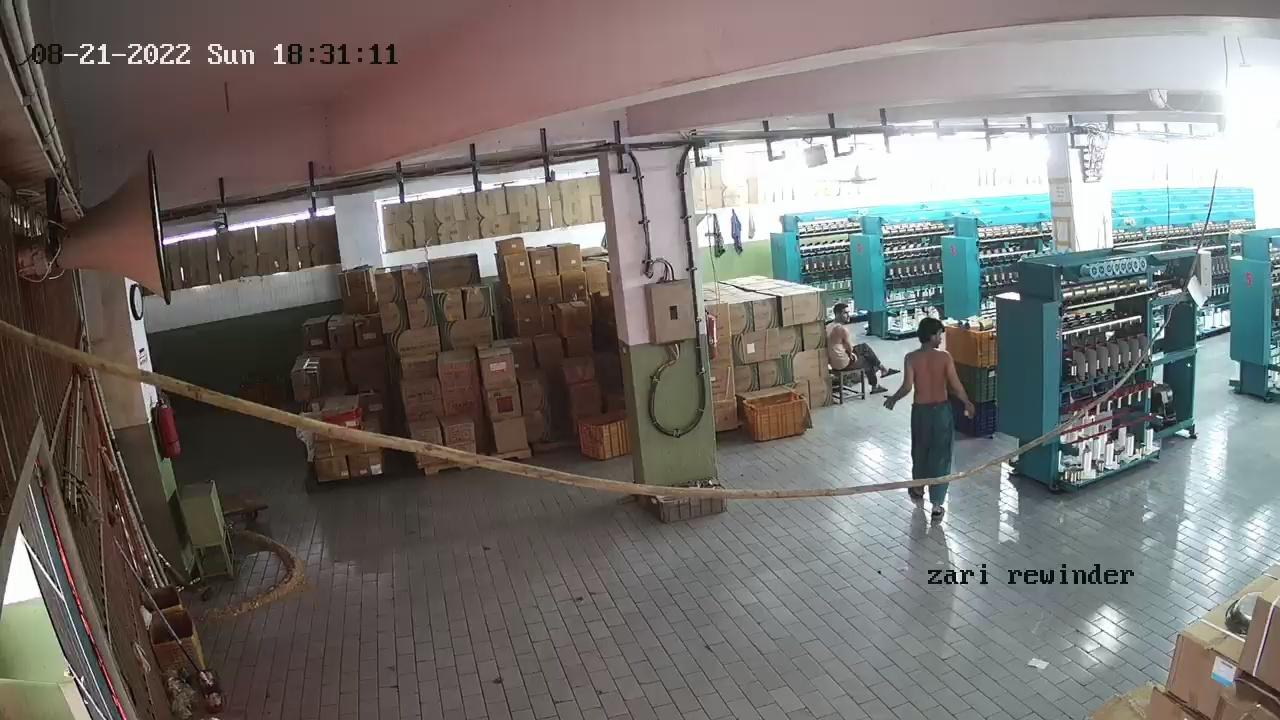person: (901, 321, 962, 522)
